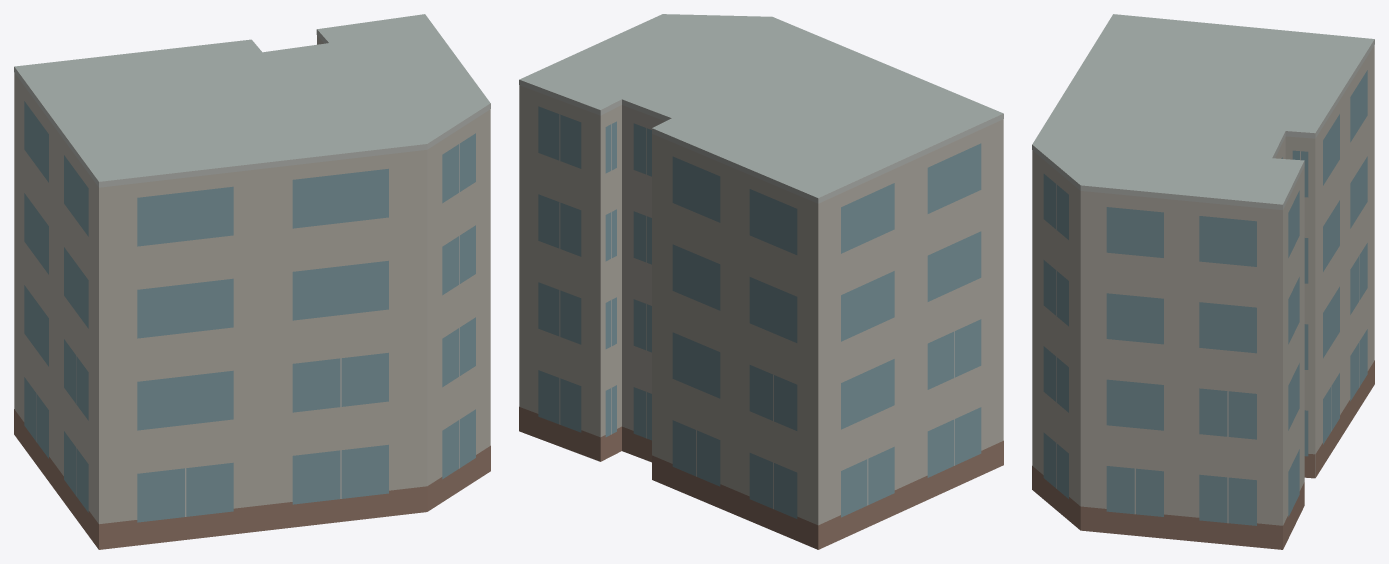
Rendered from survey-upis-32858232.glb.
3 views of the same model, side by side, from view 1: azimuth 30°, elevation 25°; view 2: azimuth 150°, elevation 25°; view 3: azimuth 270°, elevation 25° (orthographic). The views are drawn at different scales.
Visible parts, largest first — view 1: survey-upis-32858232.tmp; view 2: survey-upis-32858232.tmp; view 3: survey-upis-32858232.tmp.
Part boxes in pixels (<box>): survey-upis-32858232.tmp: <box>14,14,490,549</box>; survey-upis-32858232.tmp: <box>519,14,1003,549</box>; survey-upis-32858232.tmp: <box>1032,14,1374,549</box>.
Bounding box in the file's own units: 18.27 × 15.41 × 13.87.
